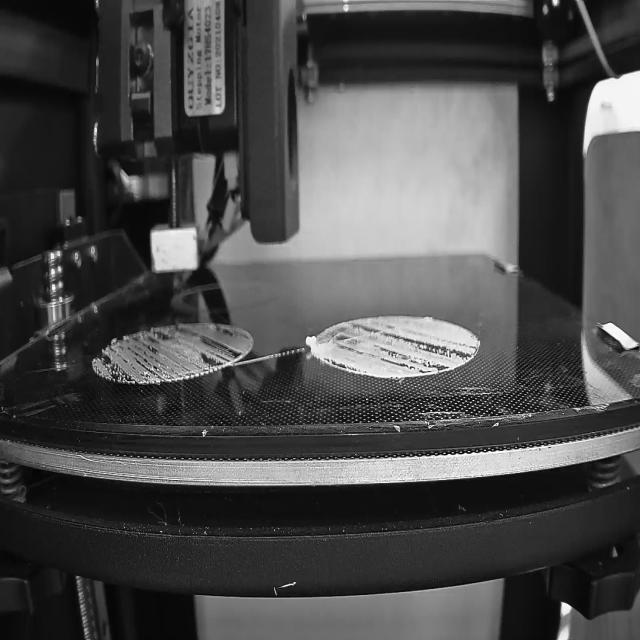under_extrusion: (95, 325, 248, 385), (322, 321, 478, 377)
